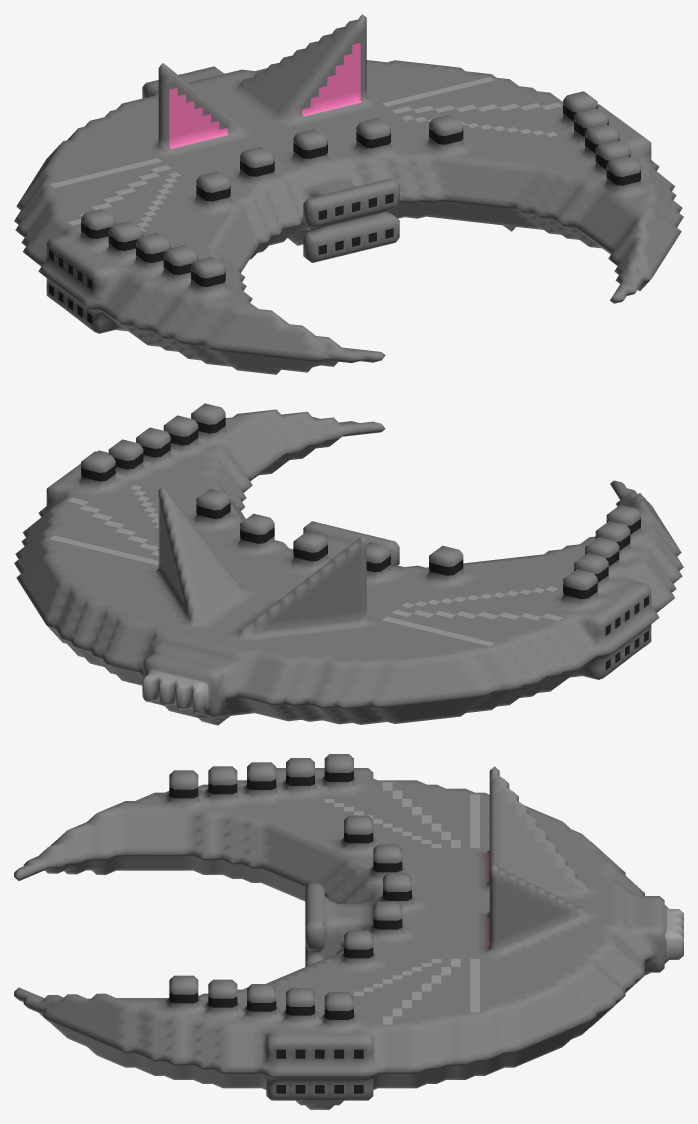
The model's file is felinae-5-caracal-class.obj.
3 renders of one model, top to bottom at view 1: azimuth 30°, elevation 25°; view 2: azimuth 150°, elevation 25°; view 3: azimuth 270°, elevation 25°, orthographic.
Size of the model in its own units: 69 by 20 by 69.
1 material, 1 textured.
